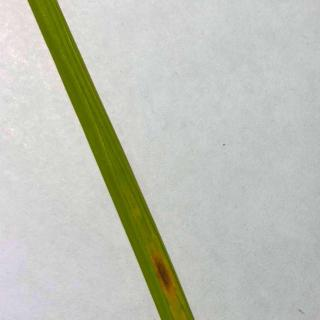bercak-Cokelat: (144, 248, 184, 306)
